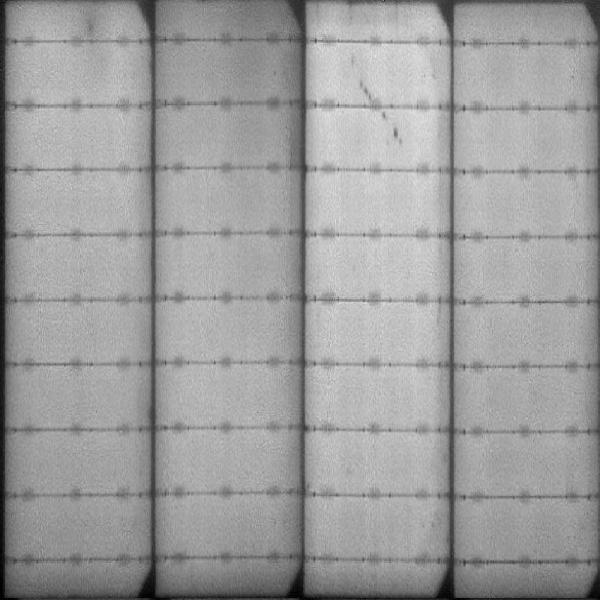scratch: (376, 109, 413, 147), (355, 76, 398, 101)
